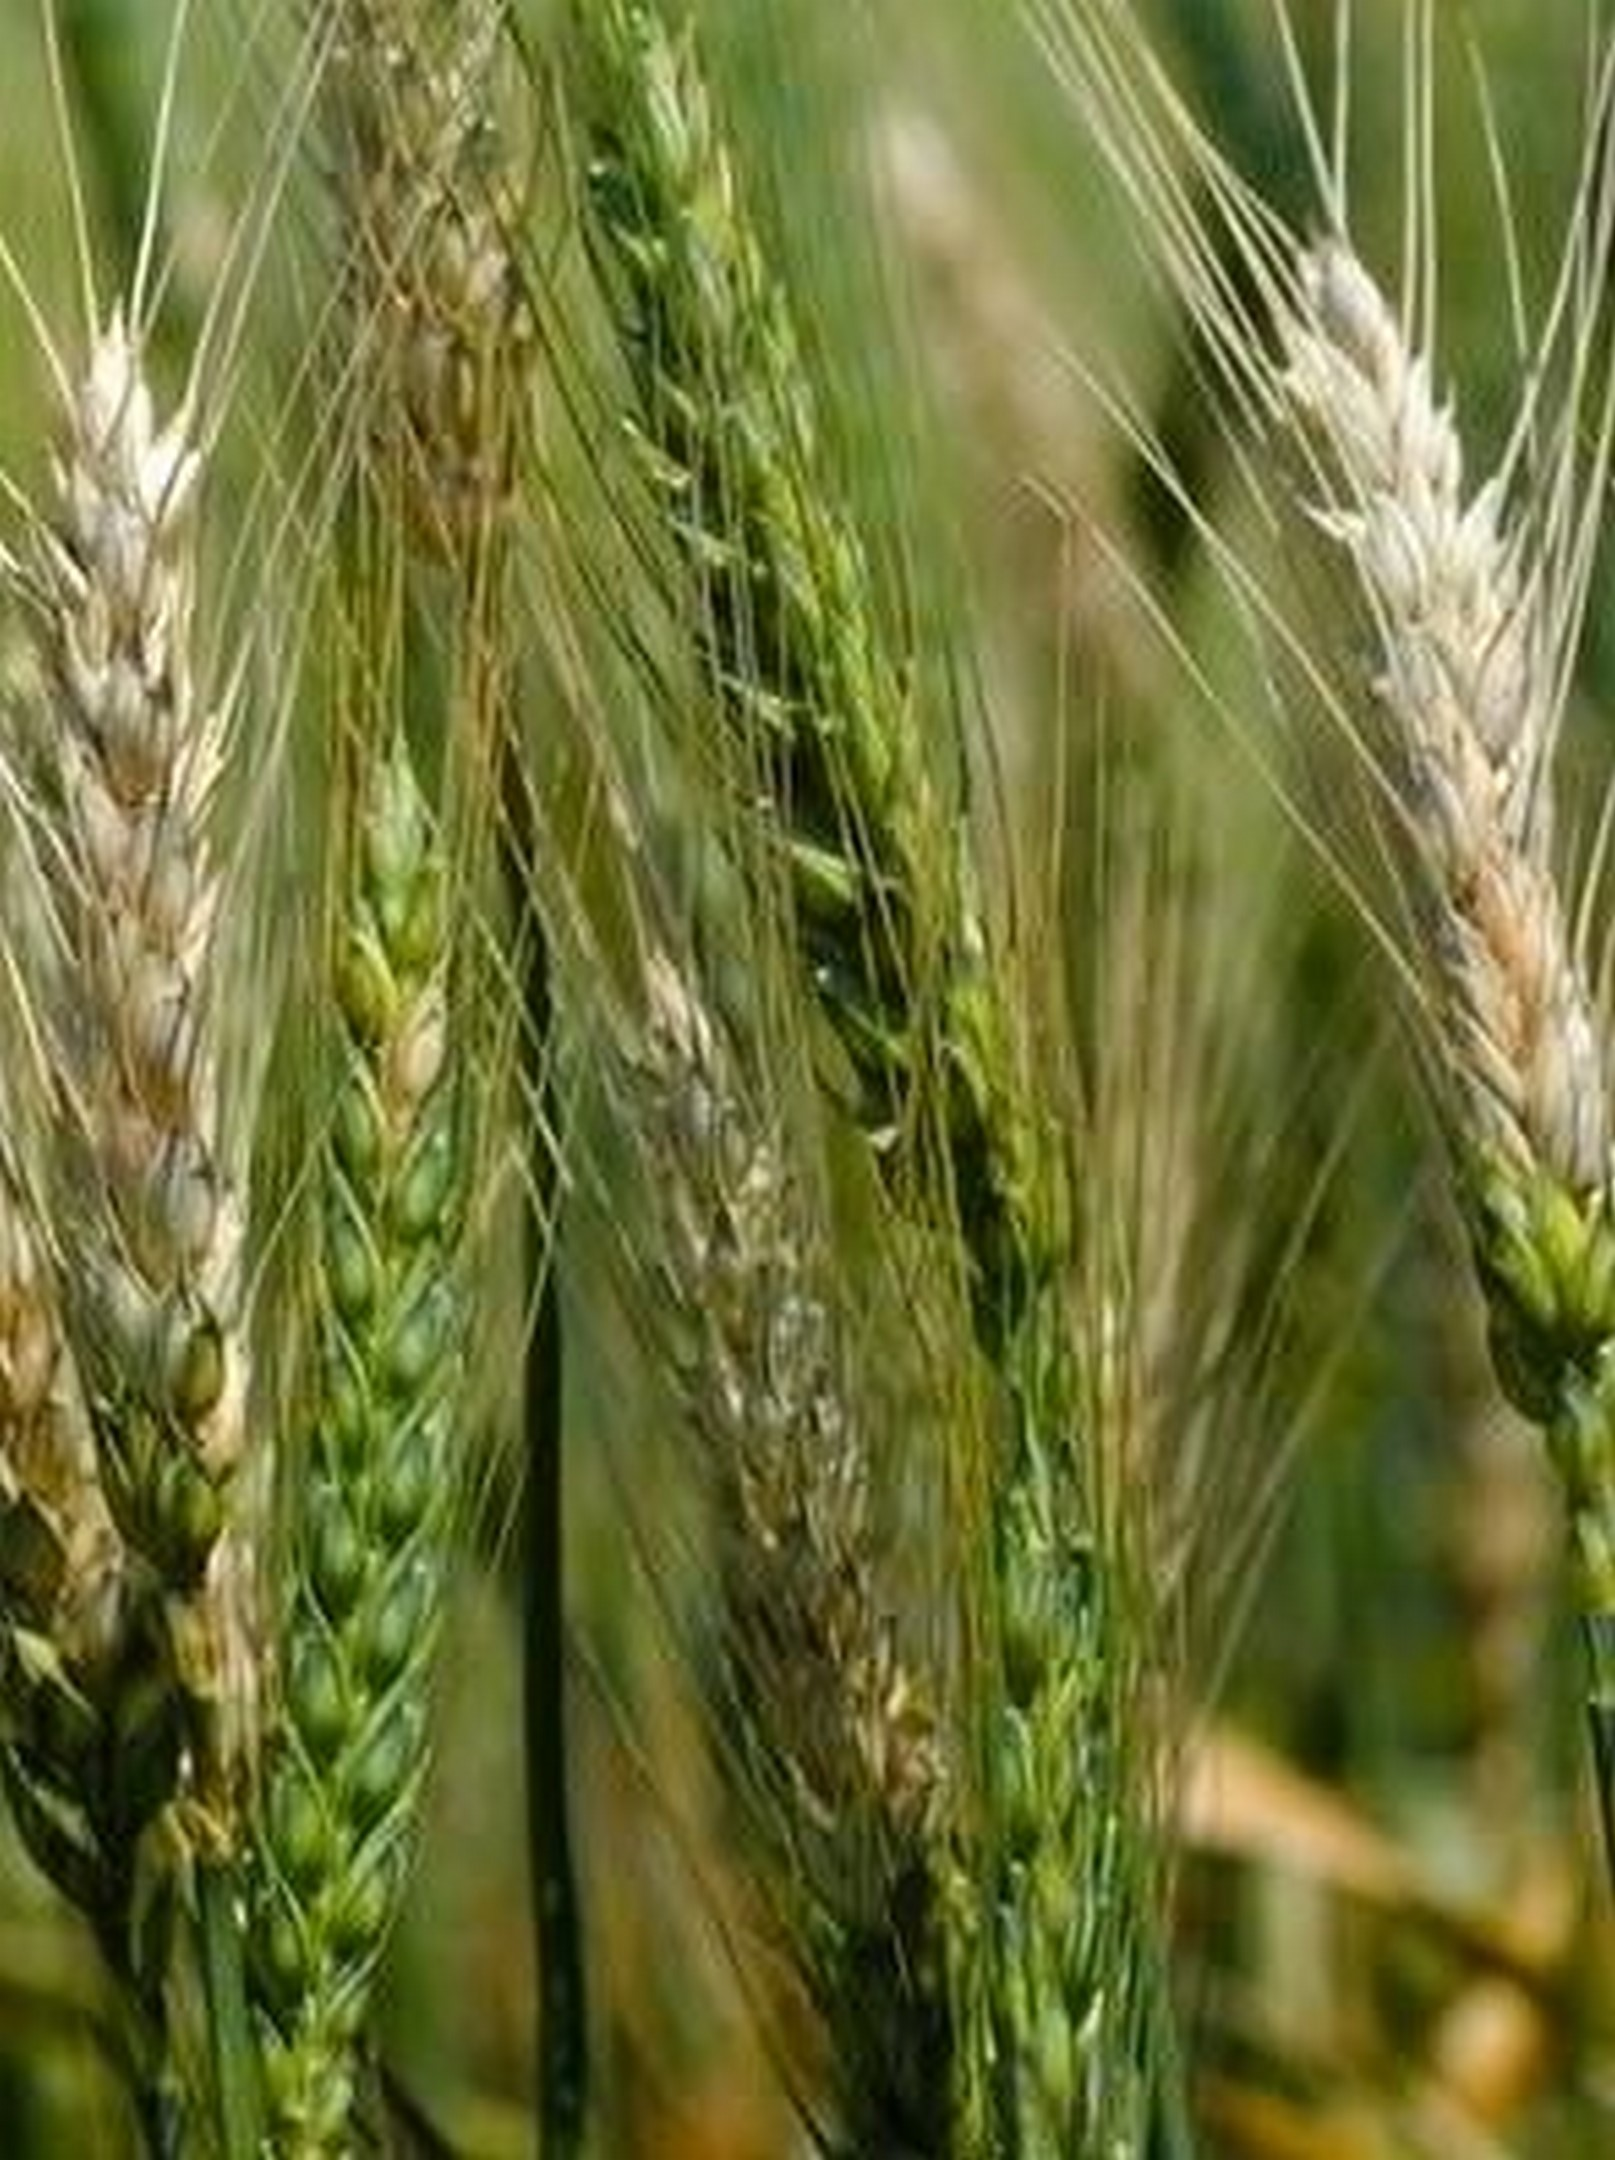Wheat scab: (1206, 209, 1615, 1486), (2, 255, 285, 1566)
